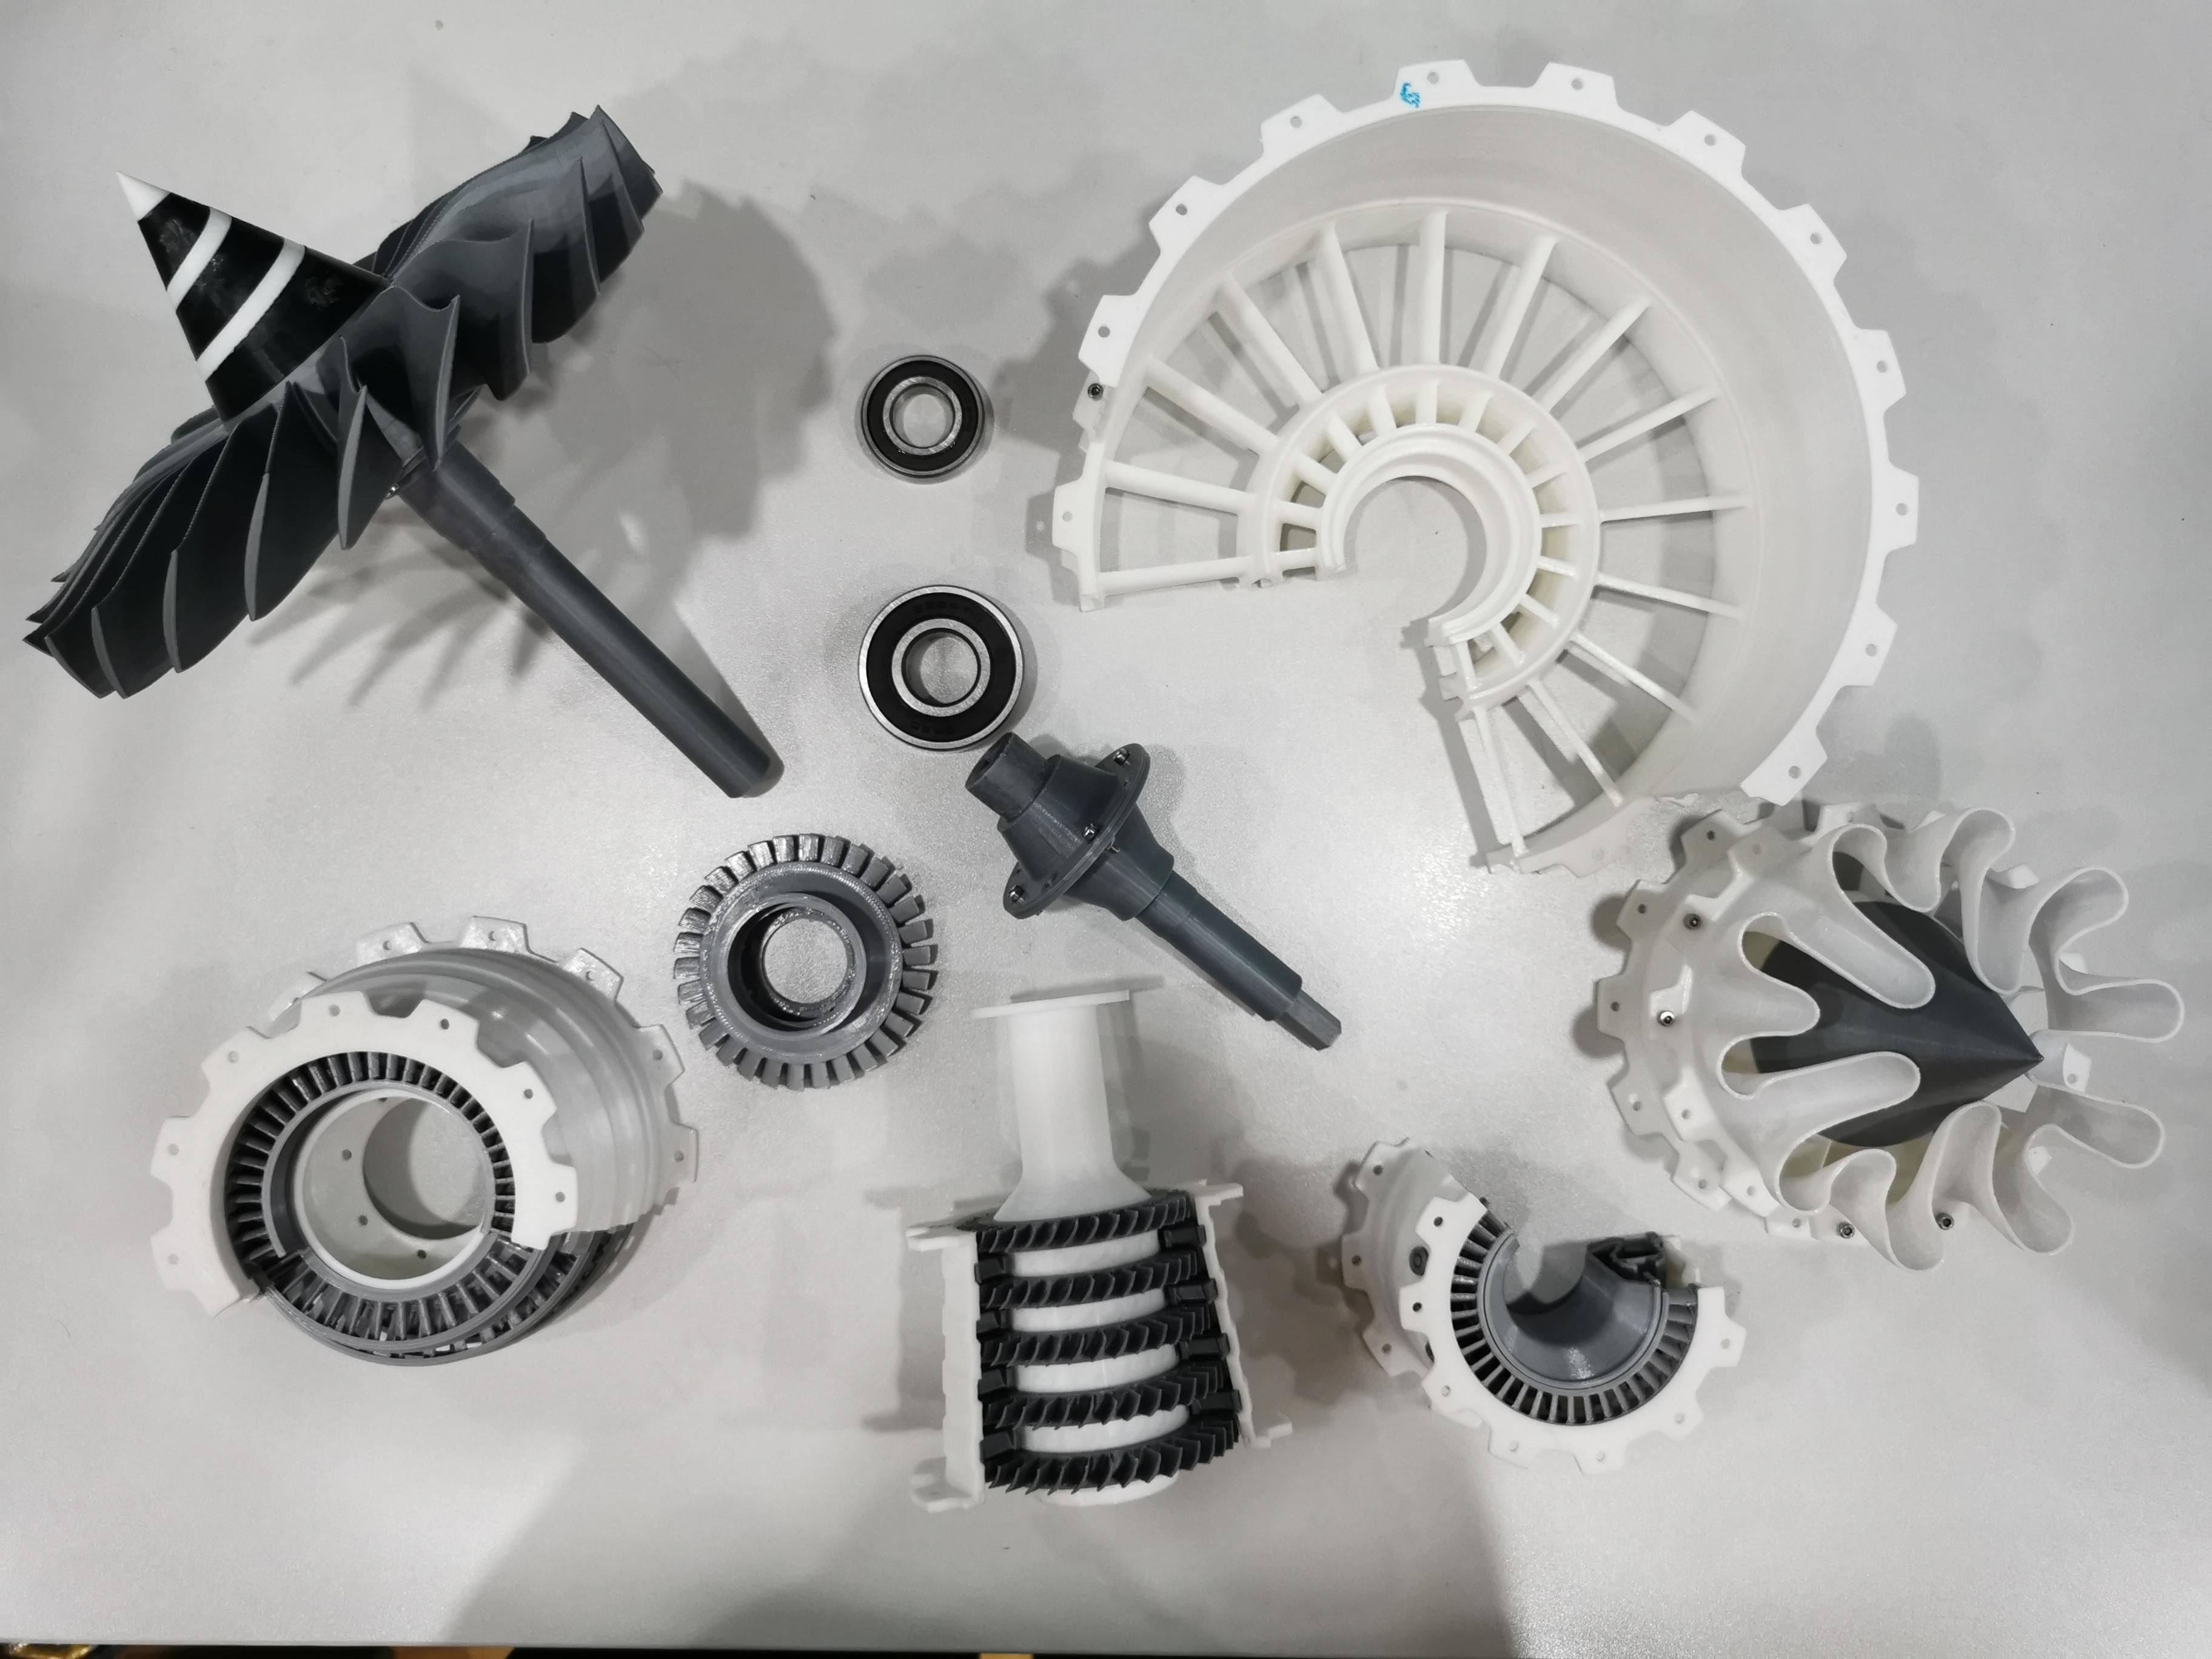Bearing-6003: (848, 342, 993, 498)
Bearing-6204: (836, 577, 1049, 763)
Combustion Section: (1327, 1117, 1756, 1488)
Fan Casing and Support: (1043, 47, 1937, 896)
Fan and Low Pressure Shaft: (19, 92, 780, 803)
HPT Section: (653, 819, 961, 1098)
High Pressure Spool: (881, 976, 1305, 1544)
LPT Section: (136, 906, 709, 1377)
Low Pressure Spool: (956, 728, 1360, 1056)
Nozzle Section: (1581, 784, 2193, 1277)
